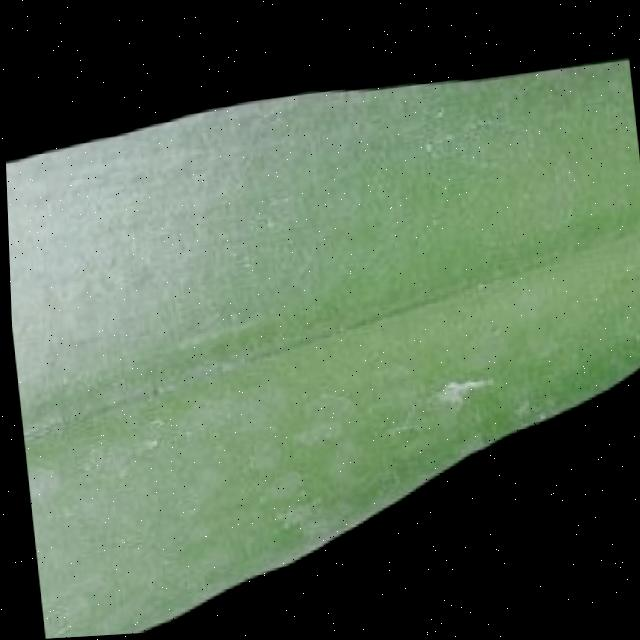spots: (4, 55, 640, 639)
sunburn: (60, 335, 640, 637)
